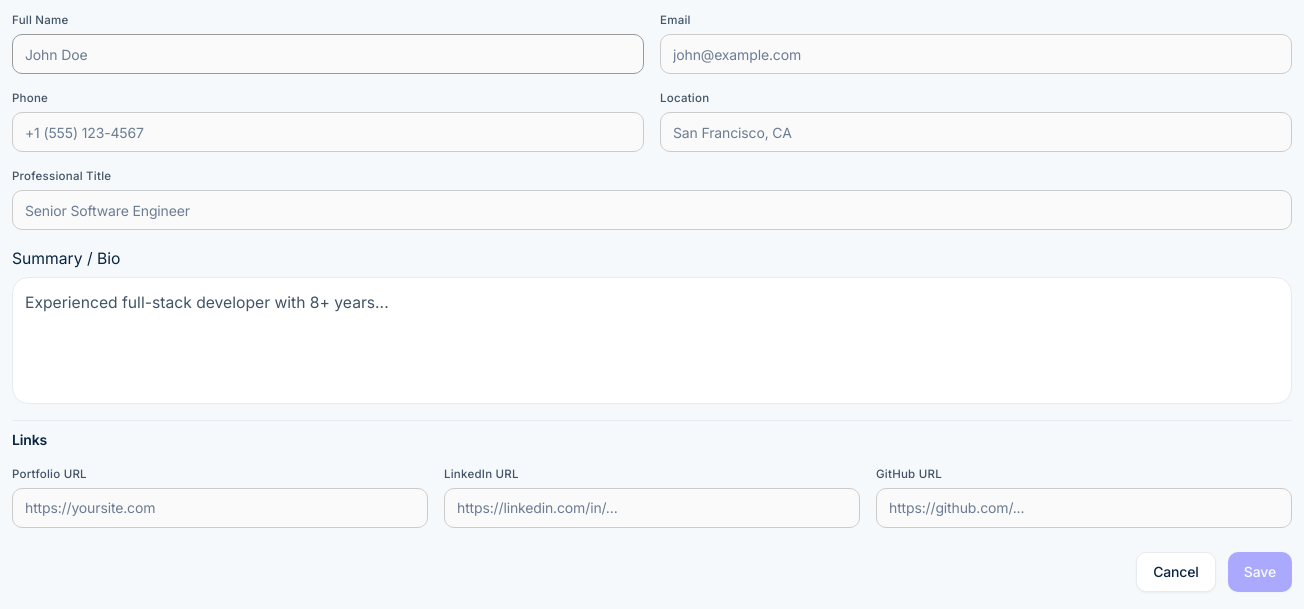
Test: PersonalForm › enables Save when name and email are filled
In the field with placeholder "John Doe": [328, 54] box x1=12 y1=34 x2=644 y2=74, type "Jane Doe"
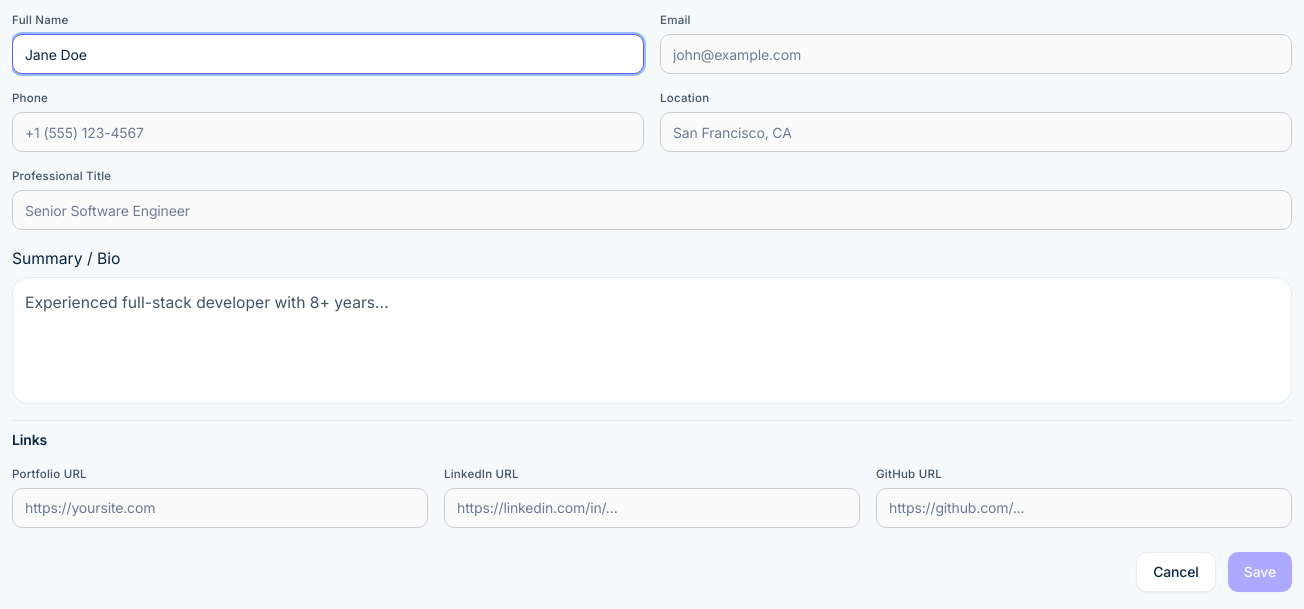
In the field with placeholder "john@example.com": [976, 54] box x1=660 y1=34 x2=1292 y2=74, type "jane@example.com"
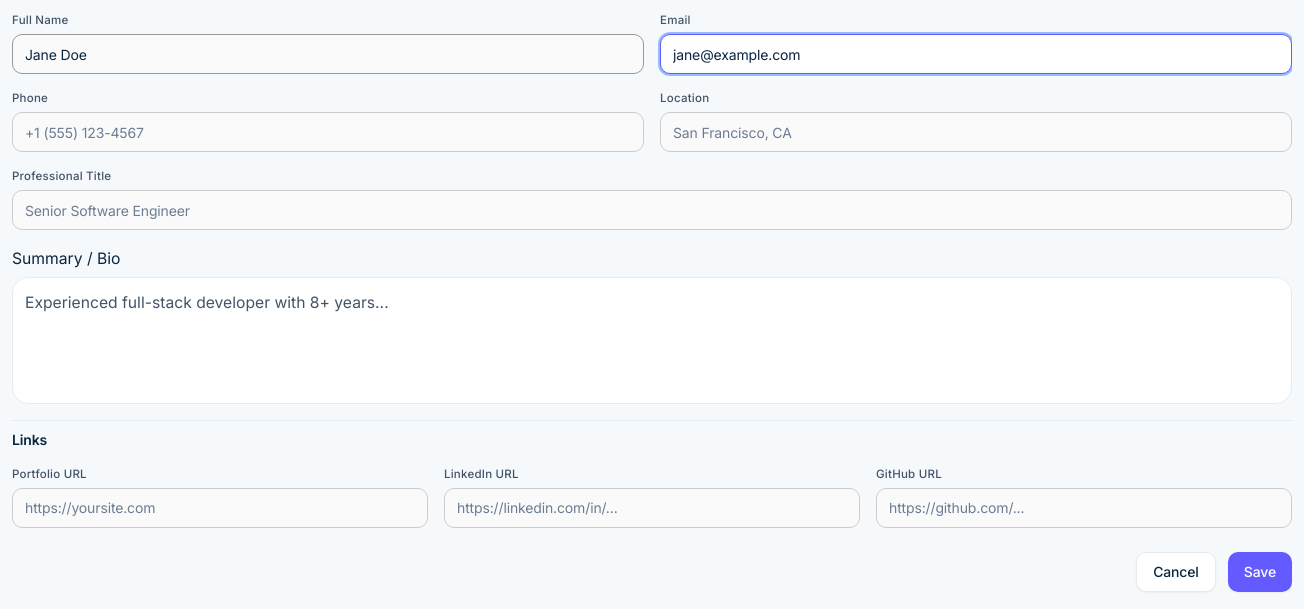
Now the button "Save" is enabled, box x1=1228 y1=552 x2=1292 y2=592
